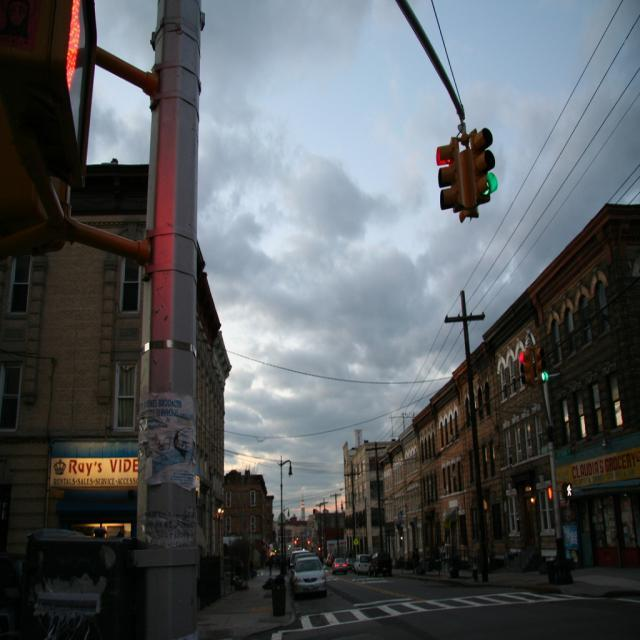traffic light: (465, 130, 499, 204), (438, 133, 458, 214)
